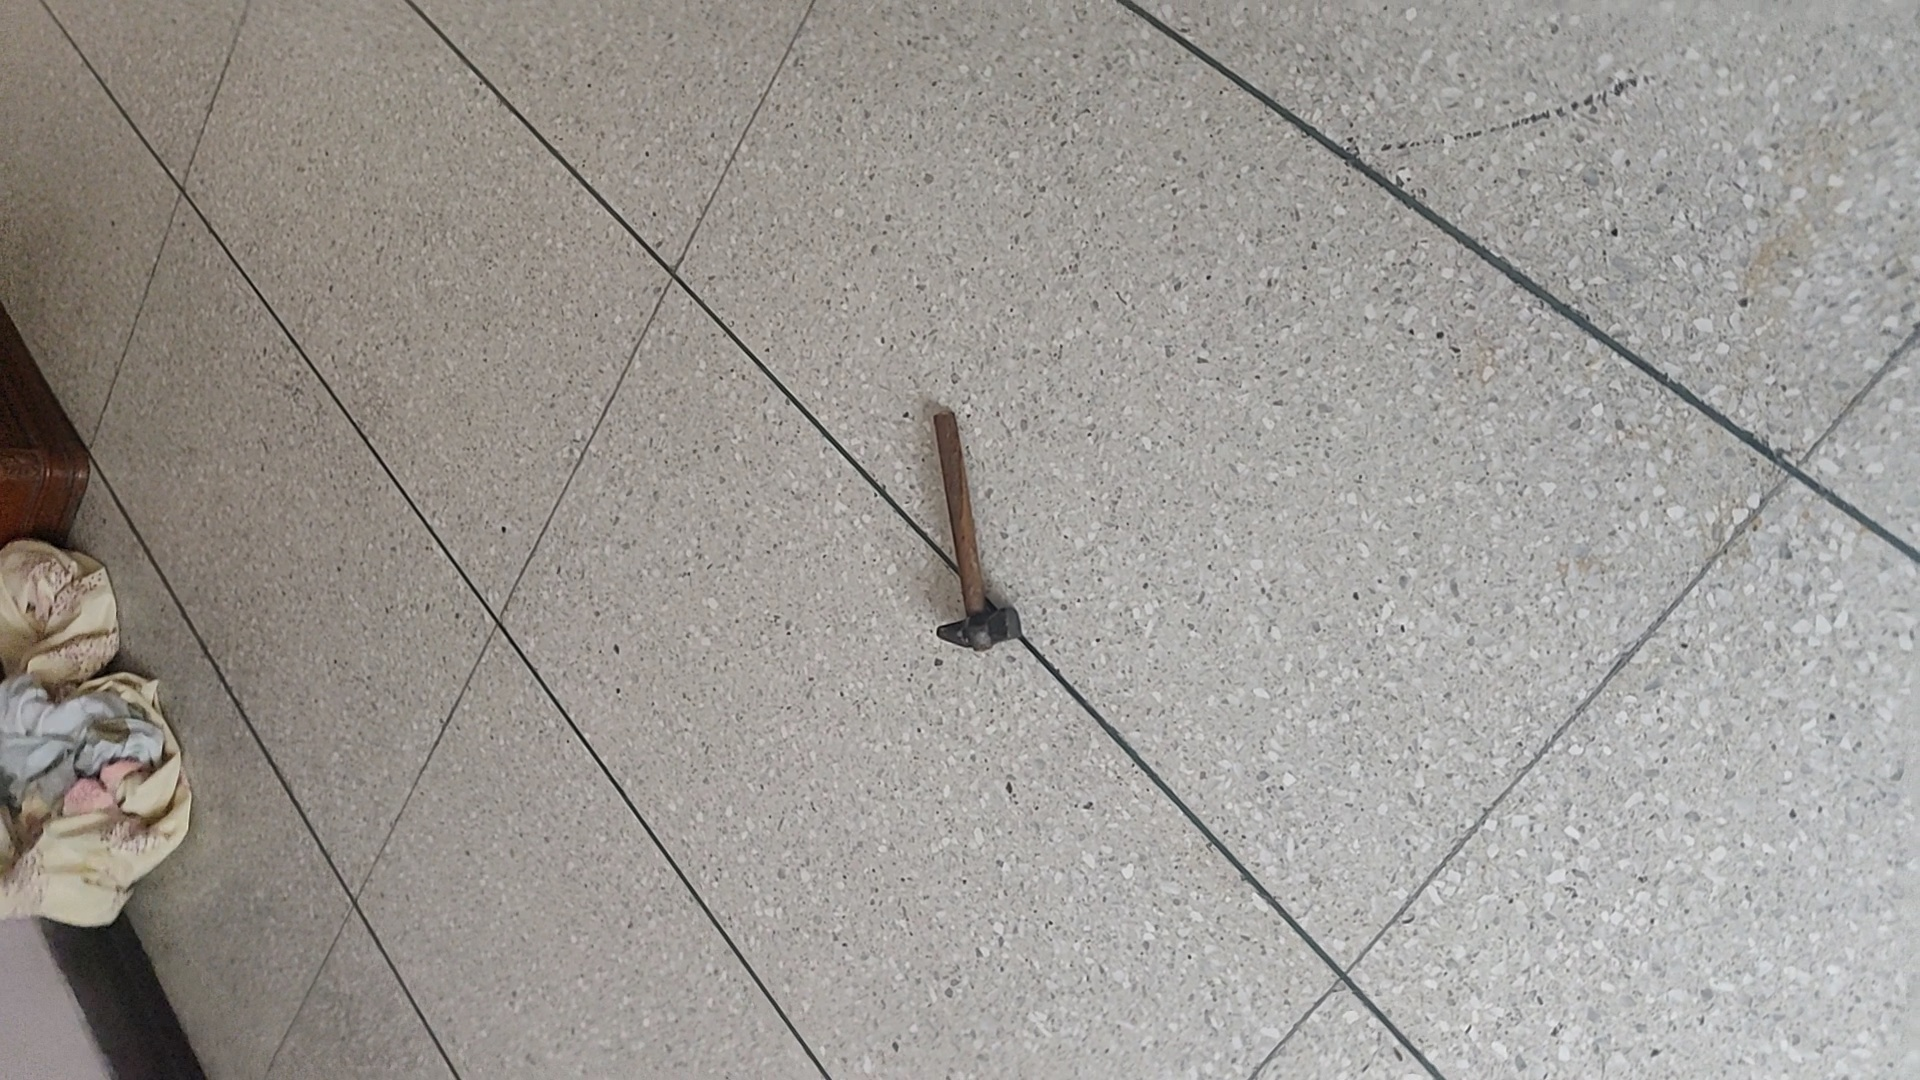hammer: (927, 405, 1025, 651)
